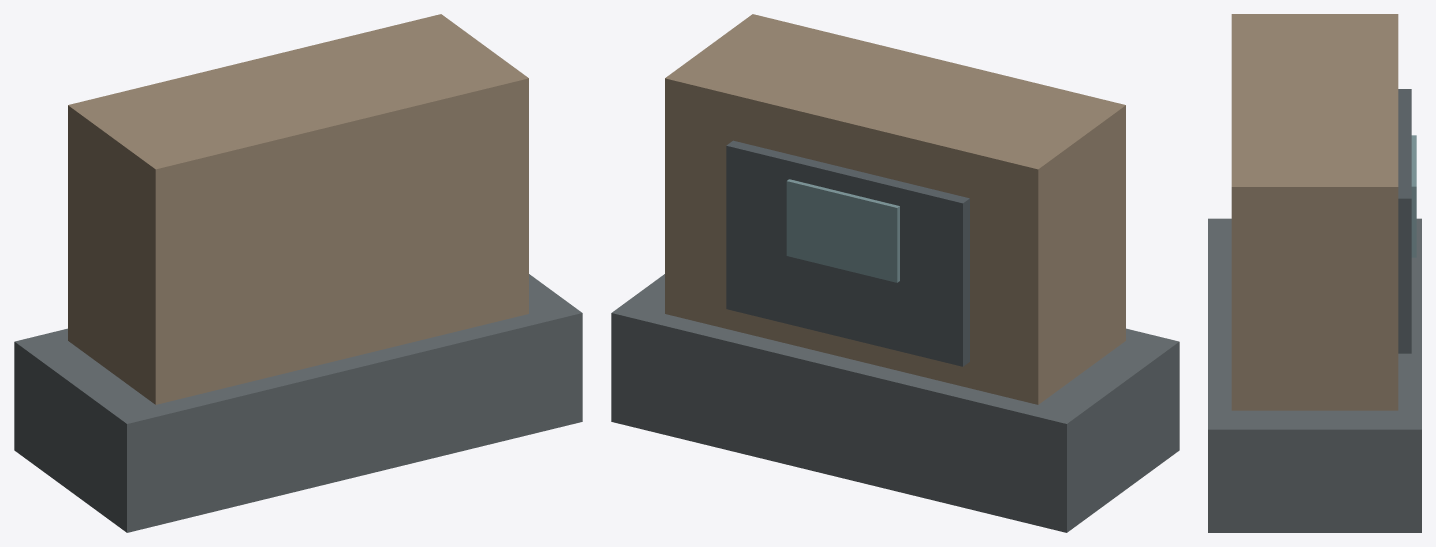
Rendered from iz3_production_battery_02.glb.
3 views of the same model, side by side, from view 1: azimuth 30°, elevation 25°; view 2: azimuth 150°, elevation 25°; view 3: azimuth 270°, elevation 25° (orthographic). The views are drawn at different scales.
Visible parts, largest first — view 1: cabinet, base; view 2: cabinet, base, panel, display; view 3: cabinet, base, panel, display.
Part boxes in pixels (x1,y1,x2,y2): cabinet: (68, 14, 528, 404); base: (14, 274, 582, 532); cabinet: (665, 14, 1125, 404); base: (611, 274, 1179, 532); panel: (726, 140, 969, 366); display: (786, 179, 899, 282); cabinet: (1231, 14, 1398, 410); base: (1208, 218, 1421, 532); panel: (1398, 89, 1411, 353); display: (1411, 135, 1416, 257).
Bounding box in the file's own units: 1.4 × 1.01 × 0.6.
